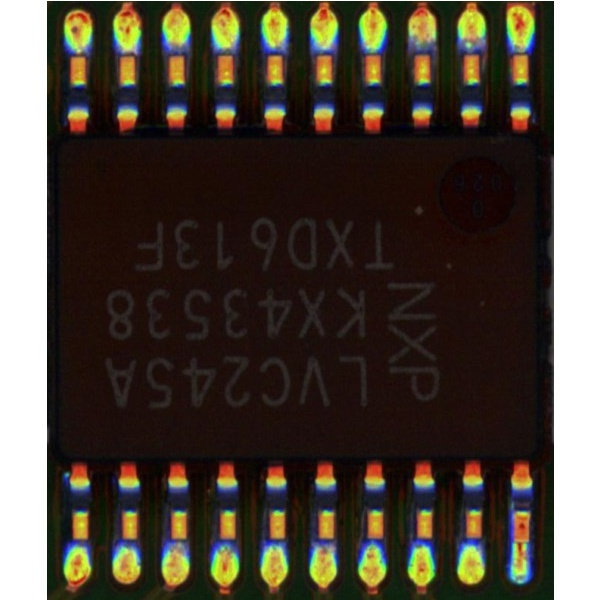Bad_podu: (516, 528, 526, 560)
